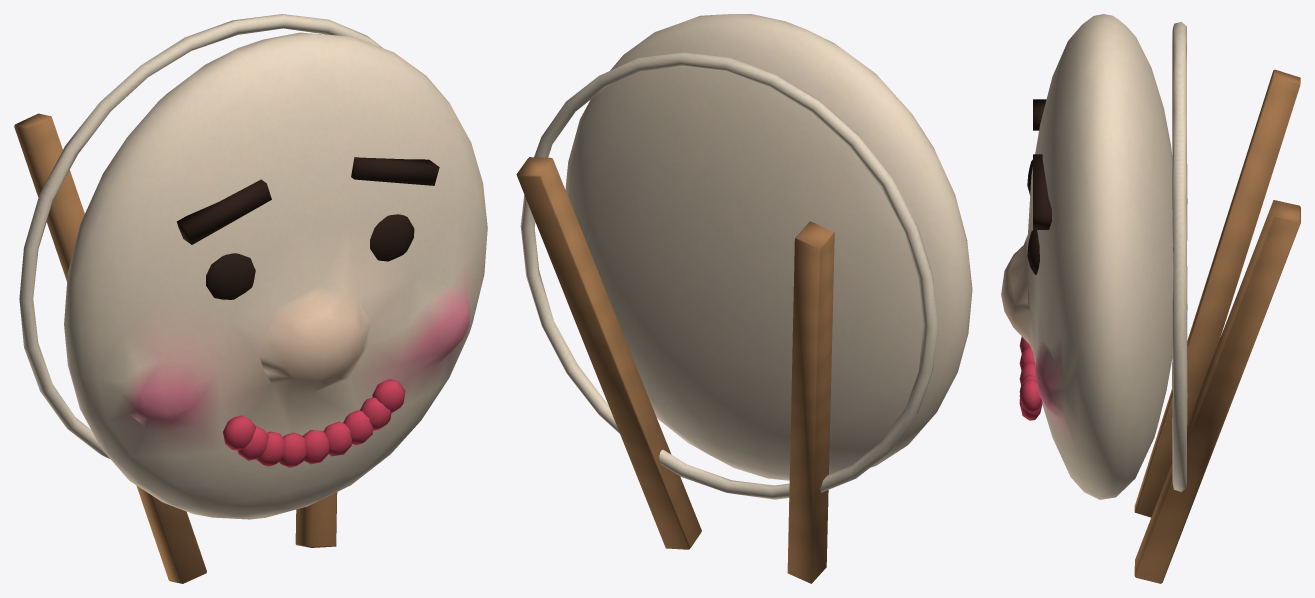
Rendered from keepsake-mask-toy.glb.
3 views of the same model, side by side, from view 1: azimuth 30°, elevation 25°; view 2: azimuth 150°, elevation 25°; view 3: azimuth 270°, elevation 25° (orthographic). The views are drawn at different scales.
Visible parts, largest first — view 1: keepsake-mask-toy; view 2: keepsake-mask-toy; view 3: keepsake-mask-toy.
Boxes of the visible parts, box(x1,y1,x2,y2) form: keepsake-mask-toy: box(14, 14, 487, 583); keepsake-mask-toy: box(516, 14, 972, 583); keepsake-mask-toy: box(1001, 14, 1300, 583).
Size of the model in its own units: 0.1242 by 0.15 by 0.0791.
1 material, 1 textured.
